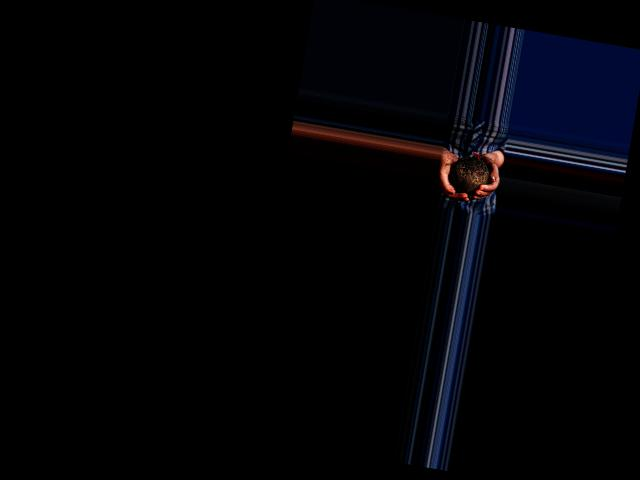beet: (447, 147, 492, 197)
